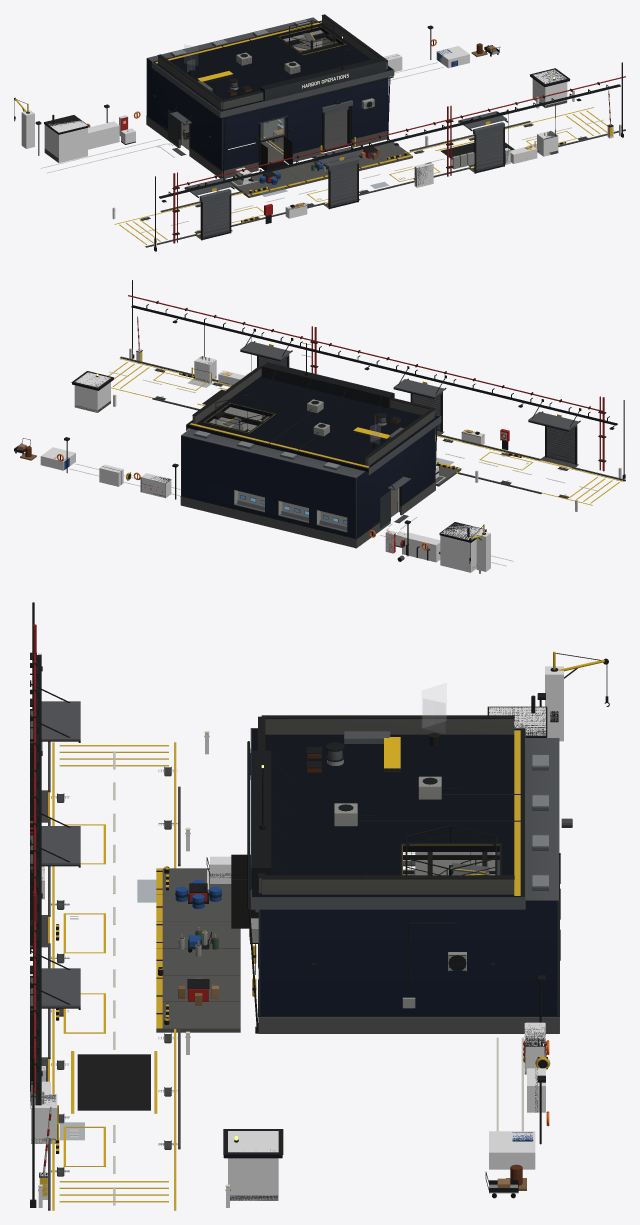
File: operations-ab.glb
3 renders of one model, top to bottom at view 1: azimuth 30°, elevation 25°; view 2: azimuth 150°, elevation 25°; view 3: azimuth 270°, elevation 25°, orthographic. The views are drawn at different scales.
Parts seen in each view (by area): view 1: MESH_OPERATIONS_AB_AB_SHEET_LOD0, MESH_OPERATIONS_AB_AB_PALETTE_LOD0, MESH_OPERATIONS_AB_STEEL_DARK_LOD0, MESH_OPERATIONS_AB_CONCRETE_YARD_LOD0, COL_MOVE_OPERATIONS_AB_PUMP_HOUSE, COL_MOVE_OPERATIONS_AB_CHECKPOINT_BOOTH, COL_MOVE_OPERATIONS_AB_MANIFOLD, MESH_OPERATIONS_AB_GLASS_CLEAR_LOD0, COL_MOVE_OPERATIONS_AB_MAINT_CRATES, COL_MOVE_OPERATIONS_AB_DAVIT, COL_MOVE_OPERATIONS_AB_TRANSFORMER, COL_MOVE_OPERATIONS_AB_WH_LOCKERS (+1 smaller); view 2: MESH_OPERATIONS_AB_AB_SHEET_LOD0, MESH_OPERATIONS_AB_AB_PALETTE_LOD0, MESH_OPERATIONS_AB_STEEL_DARK_LOD0, MESH_OPERATIONS_AB_CONCRETE_YARD_LOD0, COL_MOVE_OPERATIONS_AB_PUMP_HOUSE, MESH_OPERATIONS_AB_GLASS_CLEAR_LOD0, COL_MOVE_OPERATIONS_AB_CHECKPOINT_BOOTH, COL_MOVE_OPERATIONS_AB_MANIFOLD, COL_MOVE_OPERATIONS_AB_BUOY_RACK, COL_MOVE_OPERATIONS_AB_MAINT_CRATES, COL_MOVE_OPERATIONS_AB_DAVIT, COL_MOVE_OPERATIONS_AB_TRANSFORMER (+1 smaller); view 3: MESH_OPERATIONS_AB_AB_SHEET_LOD0, MESH_OPERATIONS_AB_AB_PALETTE_LOD0, MESH_OPERATIONS_AB_CONCRETE_YARD_LOD0, MESH_OPERATIONS_AB_STEEL_DARK_LOD0, COL_MOVE_OPERATIONS_AB_CHECKPOINT_BOOTH, COL_MOVE_OPERATIONS_AB_MAINT_CRATES, MESH_OPERATIONS_AB_AB_PALETTE_SWAY_REED_NORAY_LOD0, COL_MOVE_OPERATIONS_AB_DAVIT, COL_MOVE_OPERATIONS_AB_TRANSFORMER, MESH_OPERATIONS_AB_AB_STEAM_SWAY_SHRUB_NORAY_LOD0, COL_MOVE_OPERATIONS_AB_PUMP_HOUSE, MESH_OPERATIONS_AB_IMPACT_WATER_PUDDLE_POND_RIPPLE_NORAY_LOD (+1 smaller).
Part boxes in pixels (x1=…): MESH_OPERATIONS_AB_AB_SHEET_LOD0: x1=44, y1=17, x2=569, y2=237; MESH_OPERATIONS_AB_AB_PALETTE_LOD0: x1=14, y1=19, x2=625, y2=247; MESH_OPERATIONS_AB_STEEL_DARK_LOD0: x1=16, y1=14, x2=623, y2=251; MESH_OPERATIONS_AB_CONCRETE_YARD_LOD0: x1=44, y1=16, x2=566, y2=197; COL_MOVE_OPERATIONS_AB_PUMP_HOUSE: x1=44, y1=120, x2=87, y2=162; COL_MOVE_OPERATIONS_AB_CHECKPOINT_BOOTH: x1=532, y1=69, x2=567, y2=108; COL_MOVE_OPERATIONS_AB_MANIFOLD: x1=88, y1=121, x2=119, y2=149; MESH_OPERATIONS_AB_GLASS_CLEAR_LOD0: x1=172, y1=20, x2=308, y2=140; COL_MOVE_OPERATIONS_AB_MAINT_CRATES: x1=436, y1=46, x2=469, y2=68; COL_MOVE_OPERATIONS_AB_DAVIT: x1=21, y1=110, x2=34, y2=148; COL_MOVE_OPERATIONS_AB_TRANSFORMER: x1=537, y1=130, x2=558, y2=156; COL_MOVE_OPERATIONS_AB_WH_LOCKERS: x1=414, y1=162, x2=433, y2=187; MESH_OPERATIONS_AB_AB_SHEET_LOD0: x1=72, y1=341, x2=579, y2=542; MESH_OPERATIONS_AB_AB_PALETTE_LOD0: x1=14, y1=295, x2=625, y2=566; MESH_OPERATIONS_AB_STEEL_DARK_LOD0: x1=54, y1=280, x2=625, y2=573; MESH_OPERATIONS_AB_CONCRETE_YARD_LOD0: x1=75, y1=368, x2=476, y2=567; COL_MOVE_OPERATIONS_AB_PUMP_HOUSE: x1=440, y1=524, x2=485, y2=572; MESH_OPERATIONS_AB_GLASS_CLEAR_LOD0: x1=195, y1=431, x2=346, y2=531; COL_MOVE_OPERATIONS_AB_CHECKPOINT_BOOTH: x1=74, y1=372, x2=110, y2=412; COL_MOVE_OPERATIONS_AB_MANIFOLD: x1=402, y1=532, x2=440, y2=562; COL_MOVE_OPERATIONS_AB_BUOY_RACK: x1=141, y1=473, x2=171, y2=497; COL_MOVE_OPERATIONS_AB_MAINT_CRATES: x1=40, y1=447, x2=75, y2=470; COL_MOVE_OPERATIONS_AB_DAVIT: x1=476, y1=531, x2=490, y2=571; COL_MOVE_OPERATIONS_AB_TRANSFORMER: x1=194, y1=356, x2=216, y2=383; MESH_OPERATIONS_AB_AB_SHEET_LOD0: x1=30, y1=701, x2=558, y2=1158; MESH_OPERATIONS_AB_AB_PALETTE_LOD0: x1=30, y1=624, x2=608, y2=1210; MESH_OPERATIONS_AB_CONCRETE_YARD_LOD0: x1=31, y1=719, x2=559, y2=1200; MESH_OPERATIONS_AB_STEEL_DARK_LOD0: x1=30, y1=602, x2=600, y2=1207; COL_MOVE_OPERATIONS_AB_CHECKPOINT_BOOTH: x1=228, y1=1131, x2=278, y2=1200; COL_MOVE_OPERATIONS_AB_MAINT_CRATES: x1=489, y1=1131, x2=535, y2=1169; MESH_OPERATIONS_AB_AB_PALETTE_SWAY_REED_NORAY_LOD0: x1=38, y1=659, x2=40, y2=1099; COL_MOVE_OPERATIONS_AB_DAVIT: x1=545, y1=666, x2=563, y2=741; COL_MOVE_OPERATIONS_AB_TRANSFORMER: x1=31, y1=1094, x2=57, y2=1143; MESH_OPERATIONS_AB_AB_STEAM_SWAY_SHRUB_NORAY_LOD0: x1=422, y1=683, x2=446, y2=732; COL_MOVE_OPERATIONS_AB_PUMP_HOUSE: x1=489, y1=707, x2=545, y2=735; MESH_OPERATIONS_AB_IMPACT_WATER_PUDDLE_POND_RIPPLE_NORAY_LOD: x1=59, y1=879, x2=156, y2=1140.
Size of what is drawn, in the model's own units: 52.6 by 11.92 by 27.53.
Materials: 13 (8 with a texture image).
